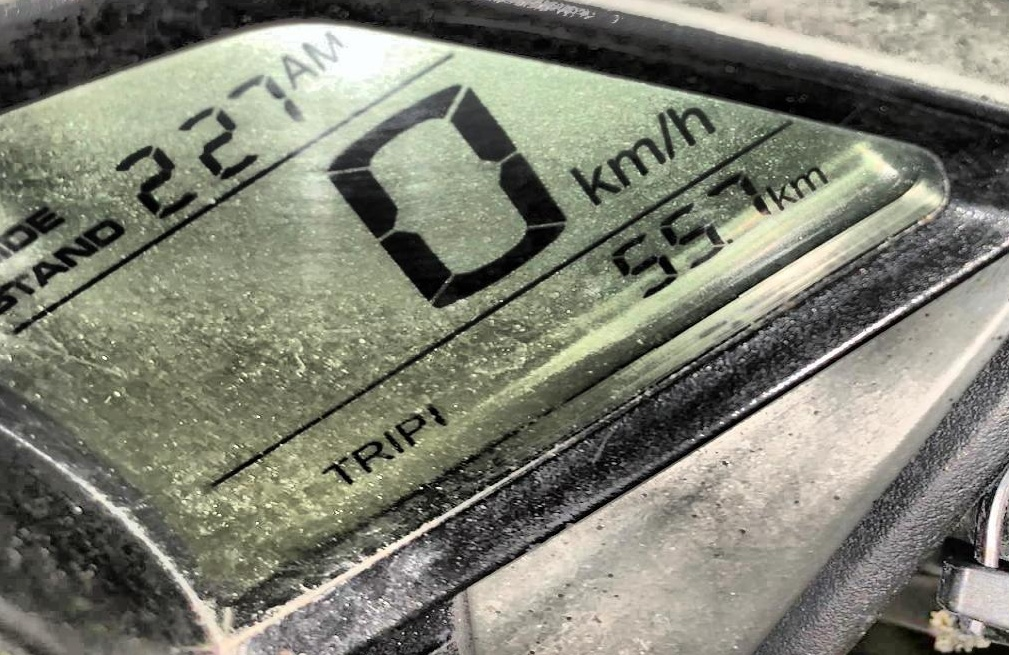-: (717, 226, 743, 247)
0: (326, 80, 569, 307)
1: (422, 394, 458, 435)
2: (177, 101, 262, 175), (112, 144, 198, 217)
5: (609, 231, 677, 300), (659, 201, 724, 266)
7: (220, 70, 311, 130), (706, 171, 772, 218)
X: (600, 136, 666, 186), (664, 103, 720, 144), (564, 162, 621, 201), (297, 32, 346, 67), (346, 436, 394, 469), (274, 54, 326, 84), (648, 109, 677, 157), (788, 164, 831, 196), (50, 236, 99, 264), (313, 456, 357, 487), (392, 414, 430, 449), (28, 257, 70, 286), (83, 217, 128, 243), (21, 204, 62, 232), (0, 223, 38, 253), (767, 182, 799, 211), (0, 273, 41, 295), (379, 426, 405, 457)
